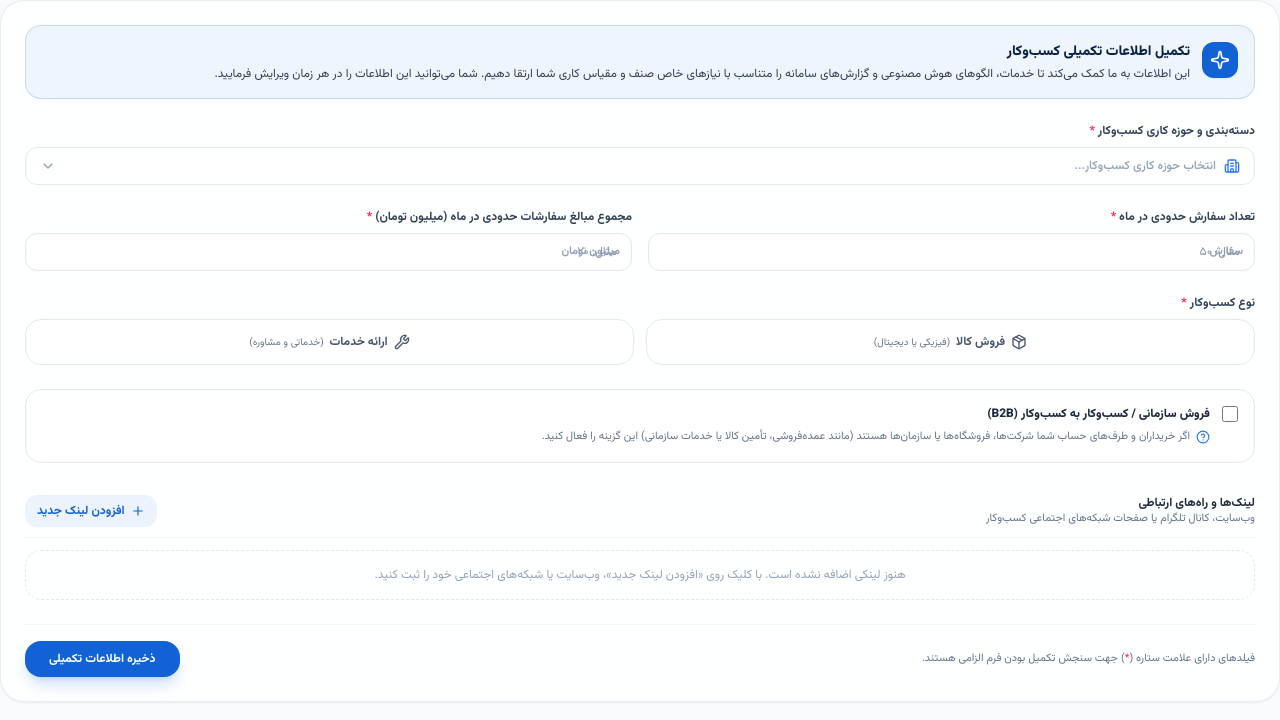
Scenario: [component] BusinessProfileForm Component › opens the category dropdown, searches and selects a category
This screenshot has width=1280, height=720.
Click the button "انتخاب حوزه کاری کسب‌وکار...".
click(1145, 166)  # box [25, 147, 1255, 185]
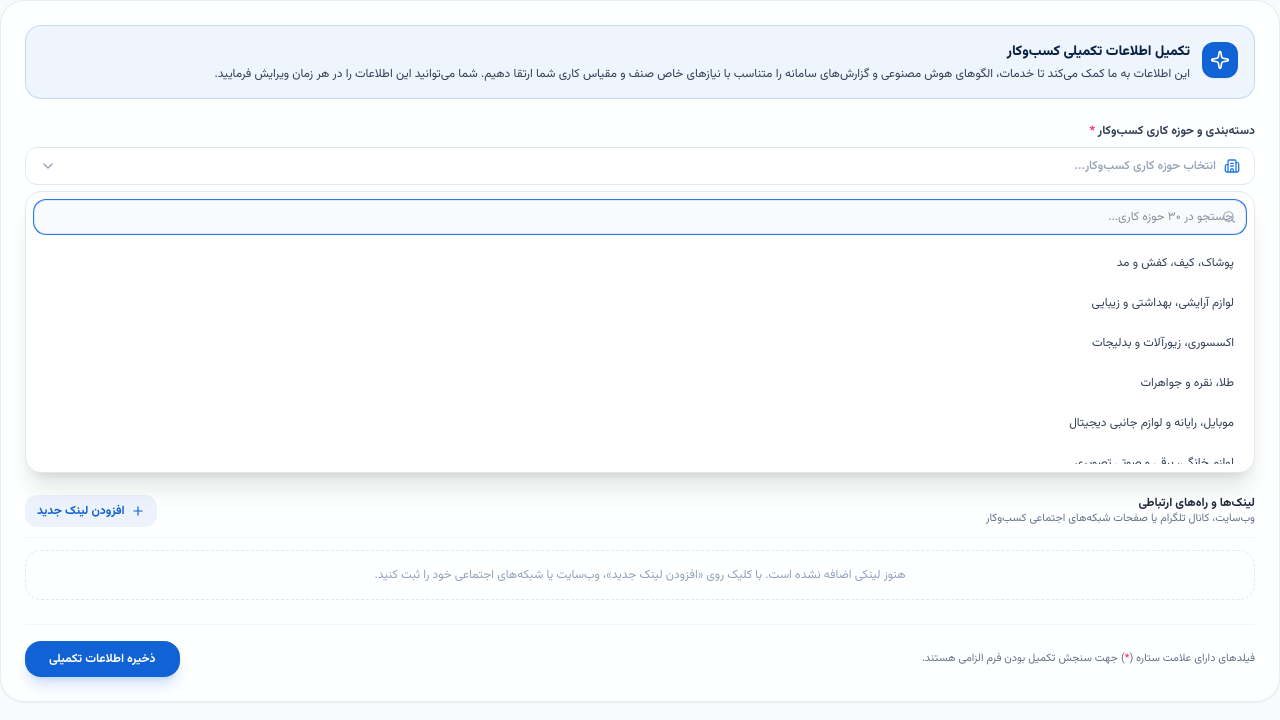
Type "کتاب" into the field with placeholder "جستجو در ۳۰ حوزه کاری...".
click(640, 217); type("کتاب")  # box [34, 200, 1246, 234]
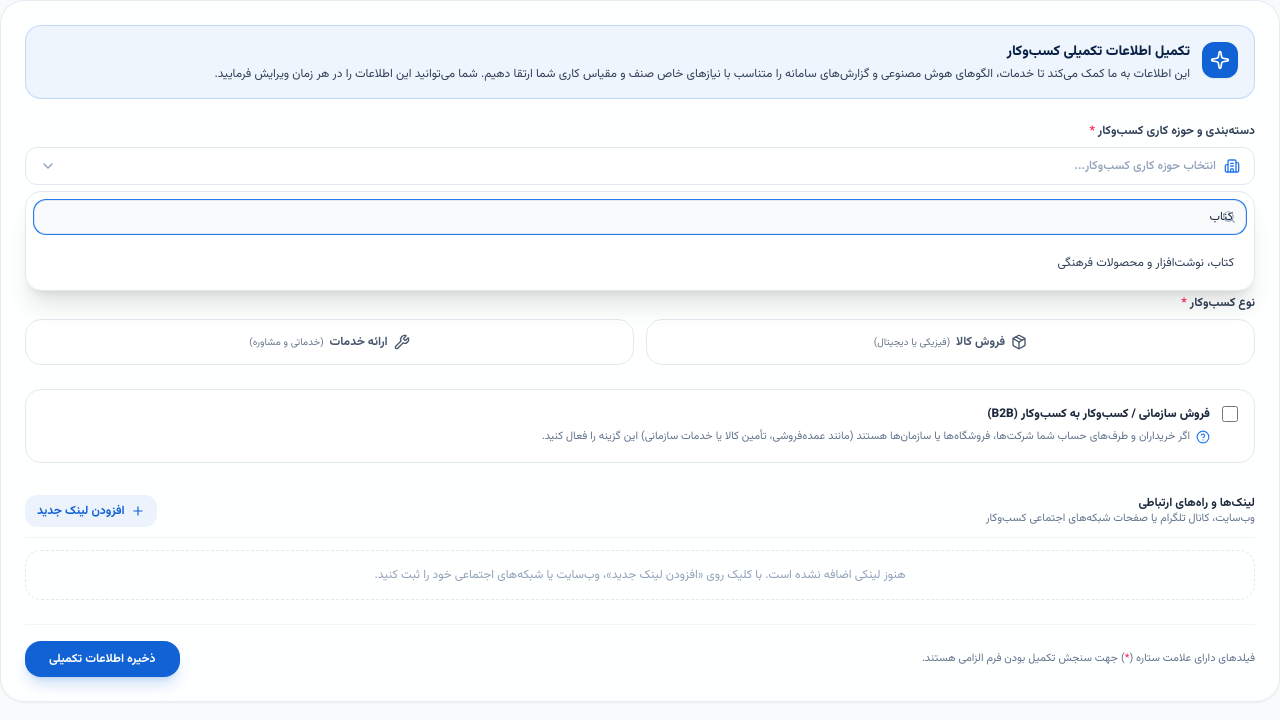
Click the button "کتاب، نوشت‌افزار و محصولات فرهنگی".
click(1146, 263)  # box [34, 244, 1246, 282]
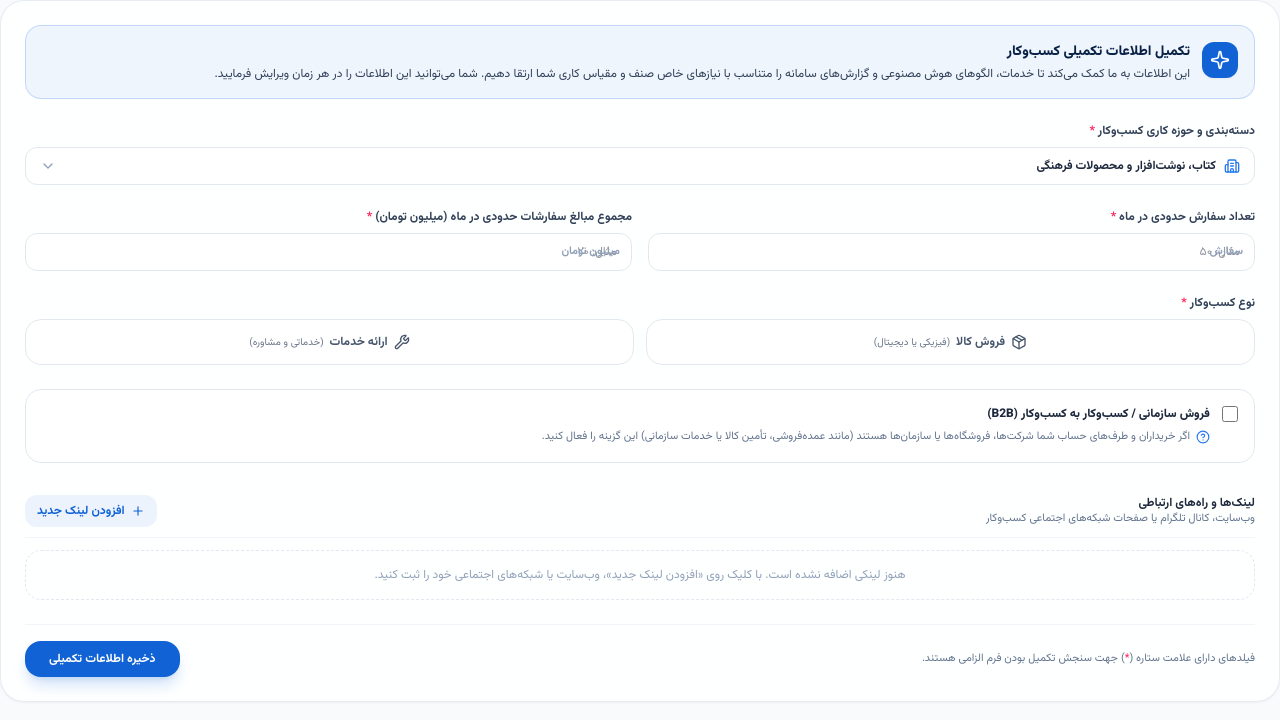
Expected: the field with placeholder "جستجو در ۳۰ حوزه کاری" is not shown
Expected: the button "کتاب، نوشت‌افزار و محصولات فرهنگی" is shown, [25, 147, 1255, 185]
